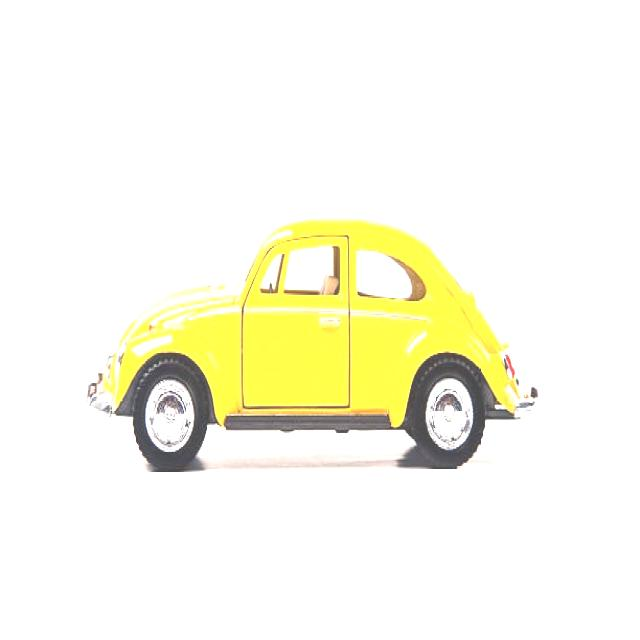car: (77, 223, 547, 475)
